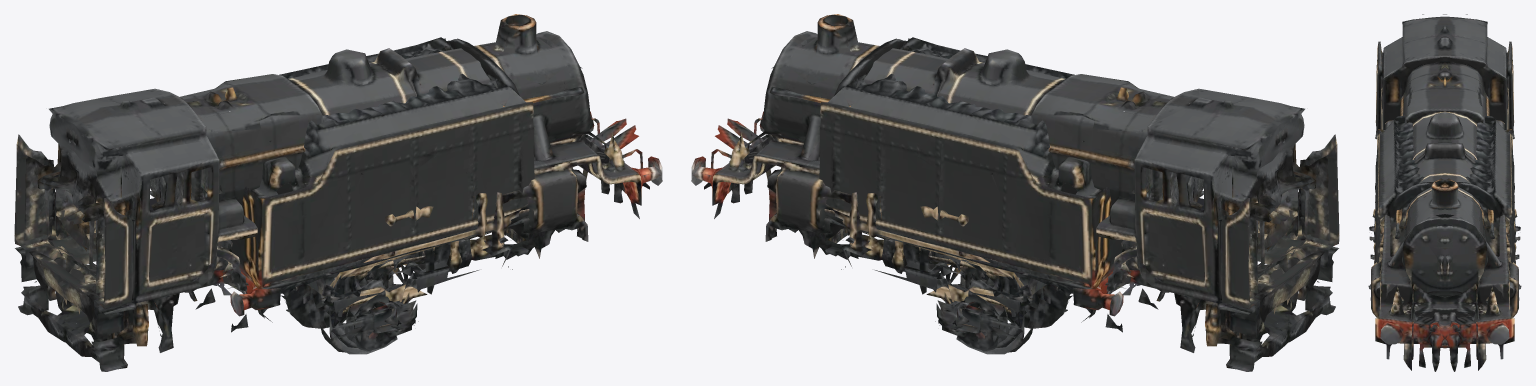
Rendered from black_five.glb.
3 views of the same model, side by side, from view 1: azimuth 30°, elevation 25°; view 2: azimuth 150°, elevation 25°; view 3: azimuth 270°, elevation 25° (orthographic). The views are drawn at different scales.
Parts seen in each view (by area): view 1: engine, tender, engine.mirror, tender.mirror, engine_wheel0, engine_wheel0.mirror, engine_wheel1, tender_wheel1, tender_wheel2, tender_wheel3; view 2: engine.mirror, tender.mirror, engine, tender, engine_wheel0.mirror, engine_wheel0, engine_wheel1.mirror, tender_wheel1.mirror, tender_wheel2.mirror, tender_wheel3.mirror; view 3: engine, engine.mirror, tender, tender.mirror.
Part boxes in pixels (x1,y1,x2,y2): engine: [59, 18, 662, 371]; tender: [198, 50, 534, 316]; engine.mirror: [14, 14, 626, 342]; tender.mirror: [218, 37, 479, 293]; engine_wheel0: [320, 270, 427, 354]; engine_wheel0.mirror: [280, 284, 334, 328]; engine_wheel1: [319, 280, 409, 348]; tender_wheel1: [349, 290, 415, 351]; tender_wheel2: [332, 288, 414, 351]; tender_wheel3: [332, 296, 418, 350]; engine.mirror: [691, 18, 1294, 371]; tender.mirror: [819, 50, 1155, 316]; engine: [727, 14, 1339, 342]; tender: [874, 37, 1135, 293]; engine_wheel0.mirror: [926, 270, 1033, 354]; engine_wheel0: [1019, 284, 1073, 328]; engine_wheel1.mirror: [944, 280, 1034, 348]; tender_wheel1.mirror: [938, 290, 1004, 351]; tender_wheel2.mirror: [939, 288, 1021, 351]; tender_wheel3.mirror: [935, 296, 1021, 350]; engine: [1371, 14, 1444, 371]; engine.mirror: [1445, 14, 1518, 371]; tender: [1368, 115, 1444, 318]; tender.mirror: [1445, 115, 1521, 318].
Size of the model in its own units: 9.95 by 4.87 by 3.06.
Materials: 1 (1 with a texture image).
